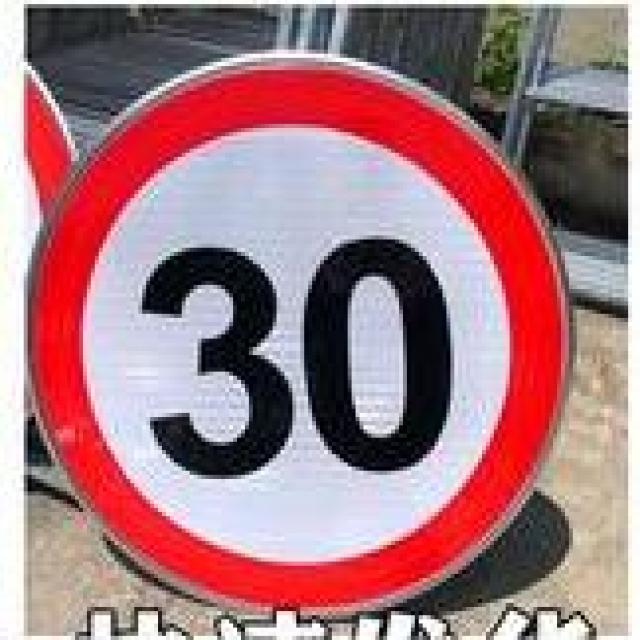speed limit 30: (24, 52, 575, 616)
